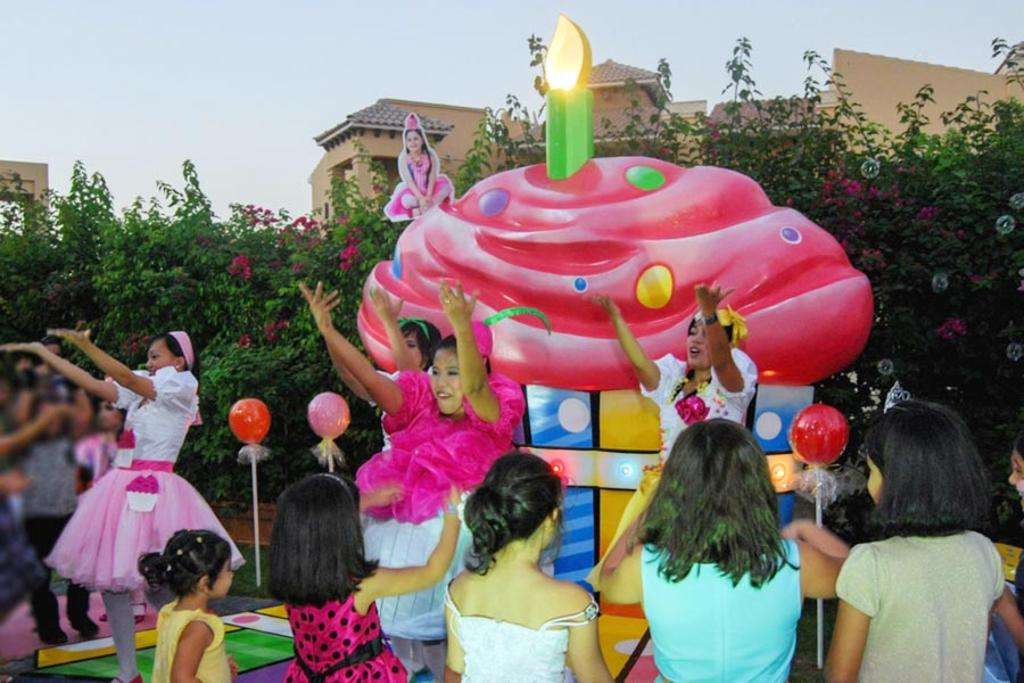face: (866, 448, 915, 527), (432, 359, 466, 415), (198, 554, 234, 597), (684, 324, 720, 366), (394, 329, 421, 376), (145, 343, 174, 383), (1007, 449, 1024, 515), (93, 397, 119, 432), (44, 350, 61, 367)
